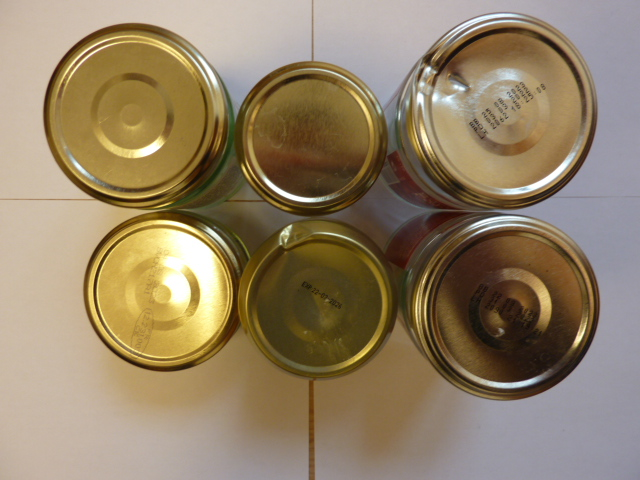intact: (412, 214, 601, 399)
